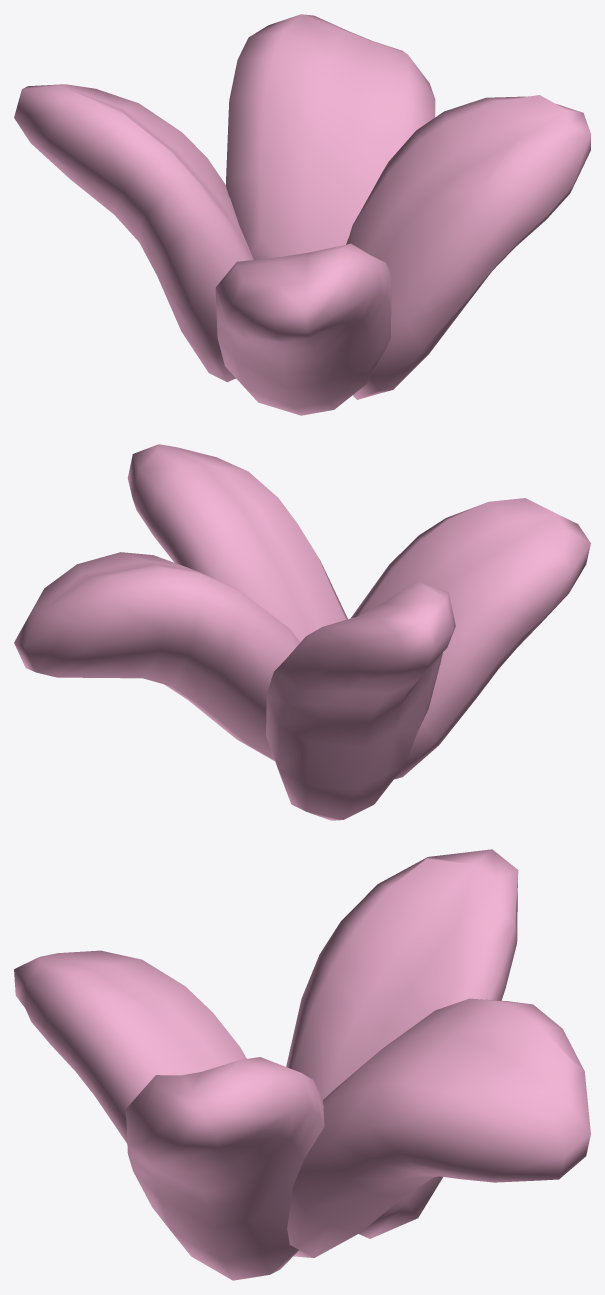
Rendered from Flower_02.fbx.
The picture shows the model from 3 angles, top to bottom: view 1: azimuth 30°, elevation 25°; view 2: azimuth 150°, elevation 25°; view 3: azimuth 270°, elevation 25°; orthographic projection. The views are drawn at different scales.
Parts seen in each view (by area): view 1: polySurface858; view 2: polySurface858; view 3: polySurface858.
Boxes of the visible parts, x1,y1,x2,y2 form: polySurface858: [14, 14, 590, 415]; polySurface858: [14, 444, 590, 820]; polySurface858: [14, 849, 590, 1280].
Size of the model in its own units: 43.99 by 28.1 by 45.81.
